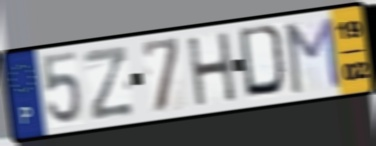5: (40, 49, 85, 130)
7: (141, 34, 183, 115)
D: (236, 22, 292, 101)
H: (185, 29, 239, 109)
M: (284, 14, 343, 97)
Z: (81, 43, 137, 124)
